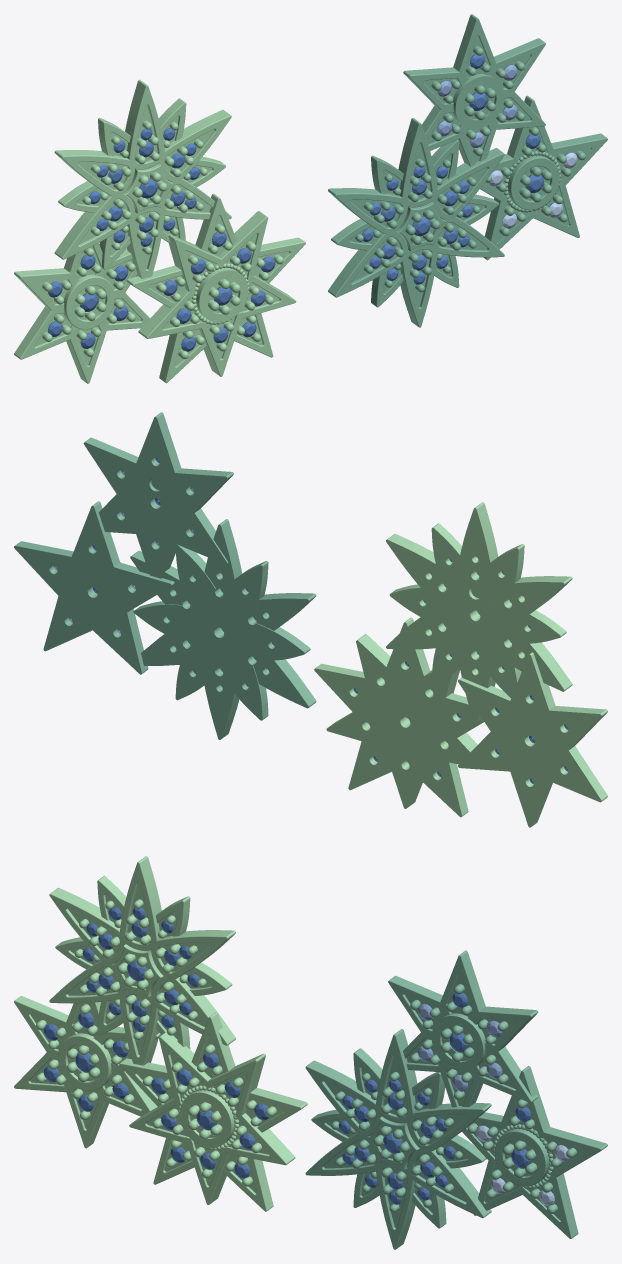
3 renders of one model, top to bottom at view 1: azimuth 30°, elevation 25°; view 2: azimuth 150°, elevation 25°; view 3: azimuth 330°, elevation 25°, orthographic. The views are drawn at different scales.
Visible parts, largest first — view 1: Brinco Estrela Render Par.3dm; view 2: Brinco Estrela Render Par.3dm; view 3: Brinco Estrela Render Par.3dm.
Boxes of the visible parts, x1,y1,x2,y2 form: Brinco Estrela Render Par.3dm: (14, 14, 607, 383); Brinco Estrela Render Par.3dm: (14, 412, 607, 827); Brinco Estrela Render Par.3dm: (14, 856, 607, 1249).
Bounding box in the file's own units: 3.55 × 1.81 × 0.3298.
